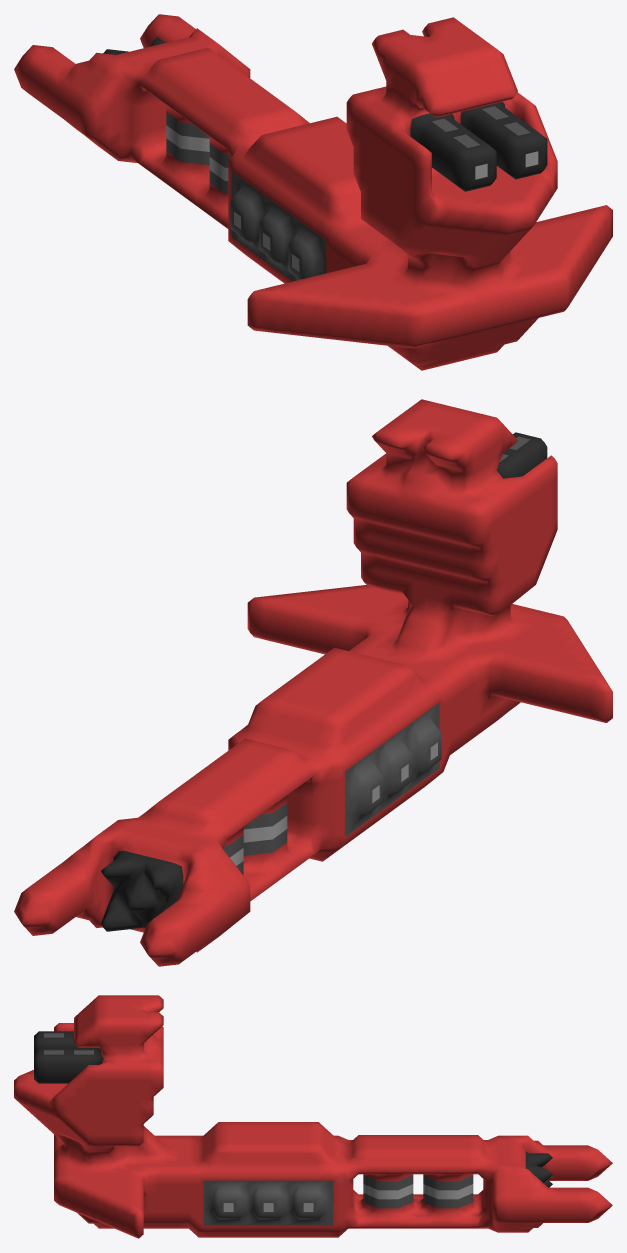
The model's file is fulkreykk-2-pertona-class.obj.
3 views of the same model, one above another, from view 1: azimuth 30°, elevation 25°; view 2: azimuth 150°, elevation 25°; view 3: azimuth 270°, elevation 25° (orthographic). The views are drawn at different scales.
Size of the model in its own units: 29 by 24 by 60.
1 material, 1 textured.
